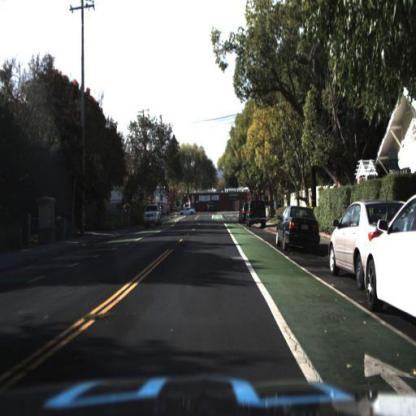car: (324, 202, 416, 289), (368, 193, 416, 326), (276, 202, 322, 257), (246, 198, 266, 231), (141, 201, 162, 226), (177, 203, 197, 219)
